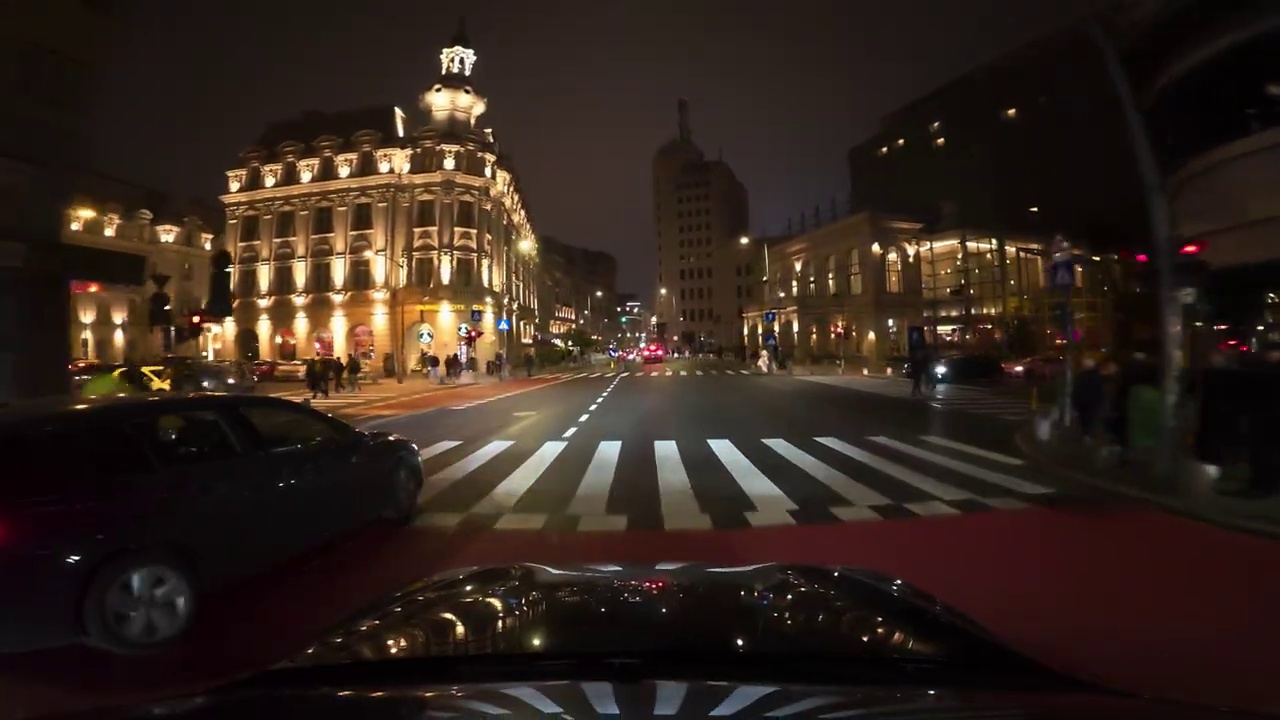acesa: (516, 234, 538, 260)
